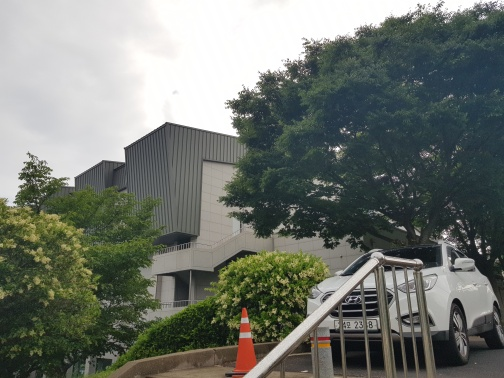Gym: (50, 122, 267, 322)
